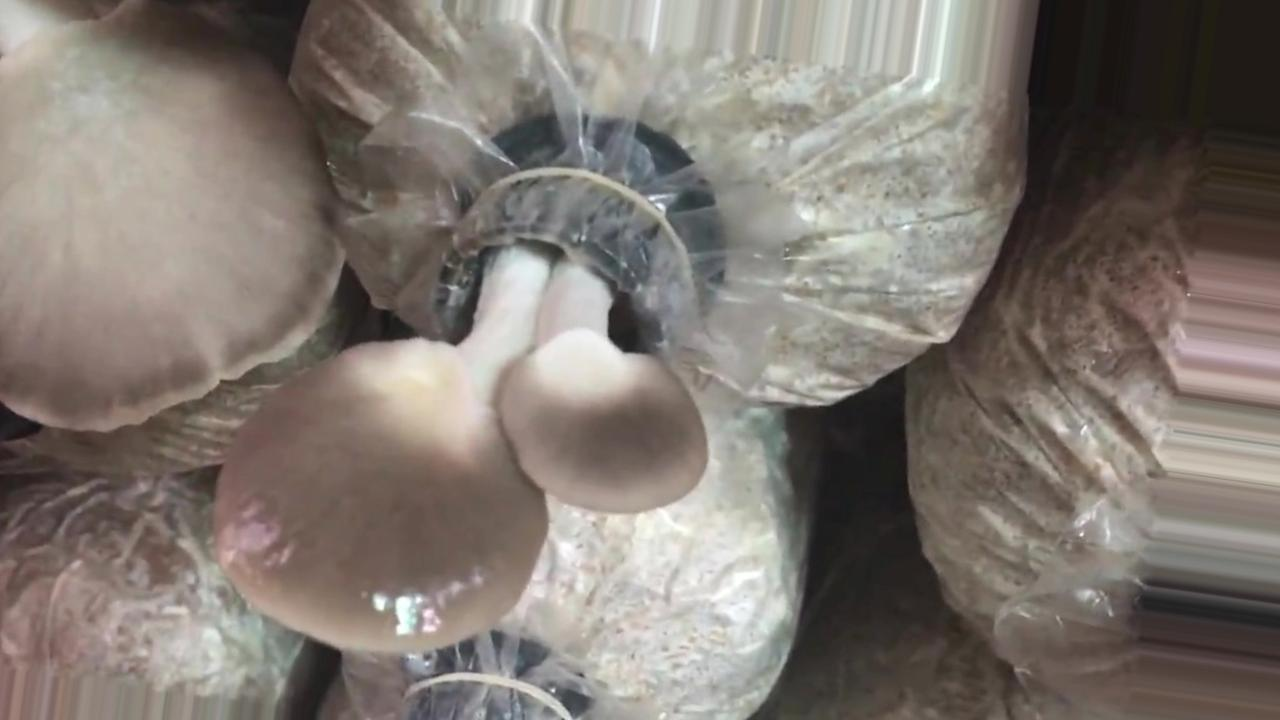nam: (211, 160, 727, 657), (1, 2, 345, 438)
